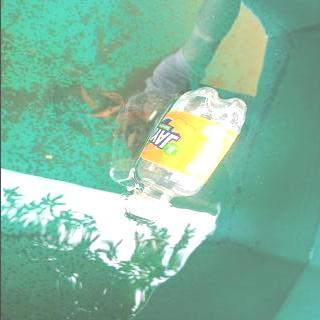bottle: (126, 86, 247, 222)
